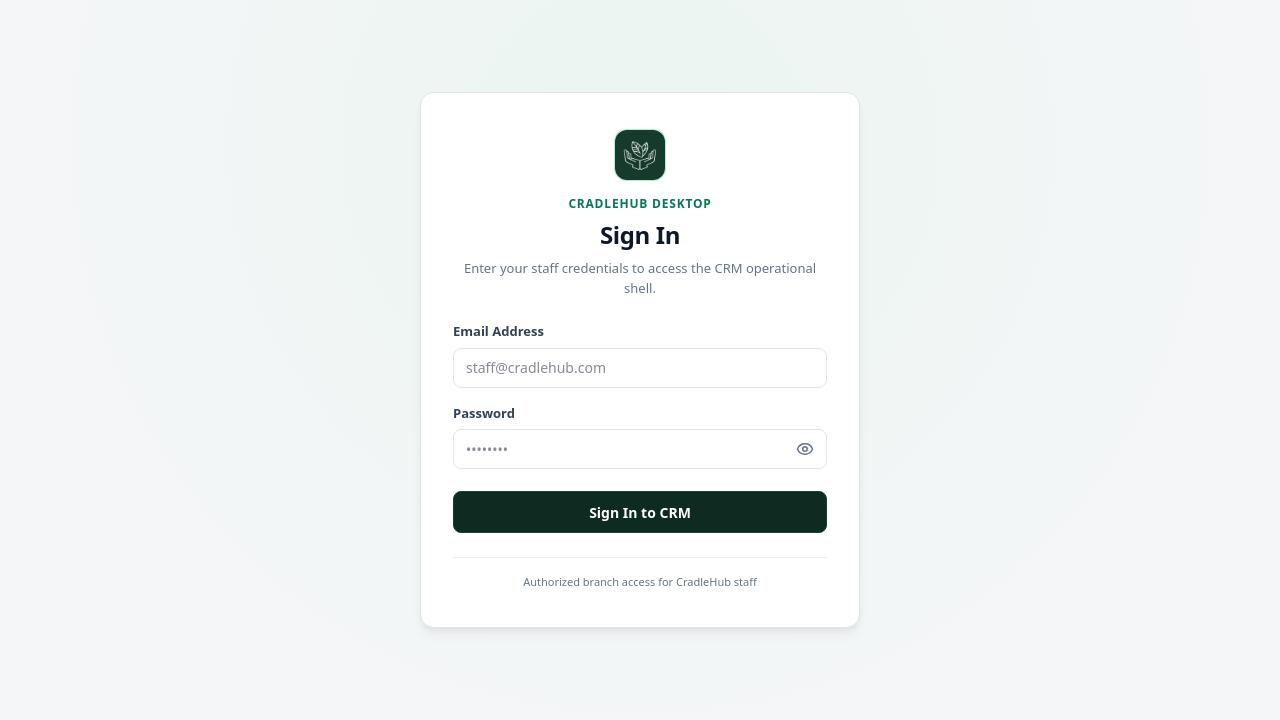
Stage 01 UI Components › App integration flows › transitions from Login to CanonicalShell on successful authentication and context resolution, and signs out via avatar menu
Type "user@example.com" into the field with test id "email-input". click: (640, 368)
box: [453,348,827,388]
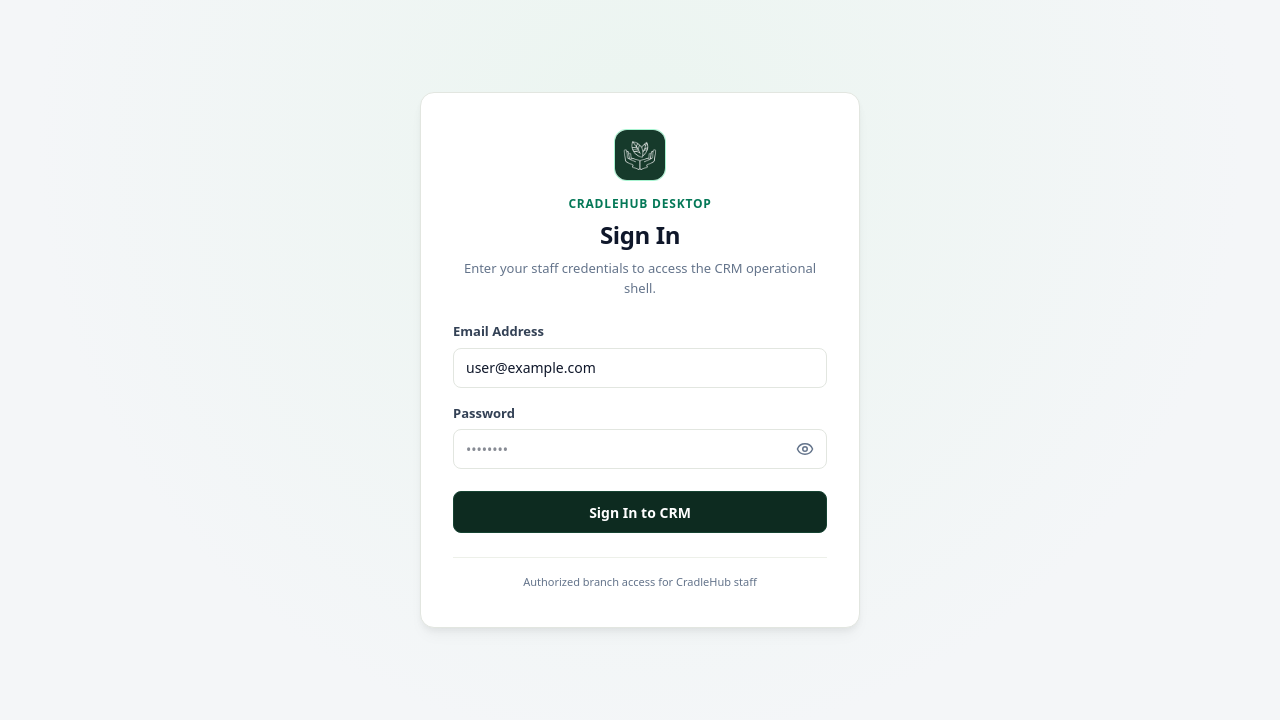
Type "password123" into the password field with test id "password-input". click: (640, 449)
box: [453,429,827,469]
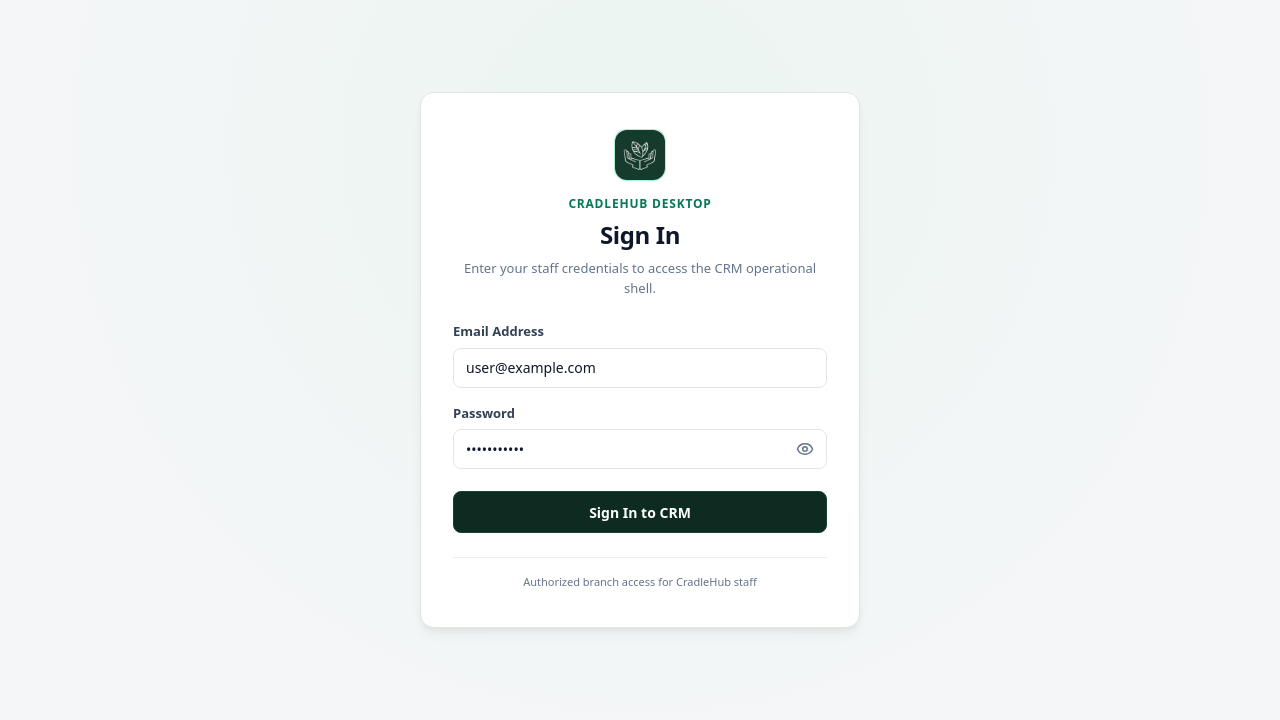
Click the button with test id "submit-button". click: (640, 512)
box: [453,491,827,533]
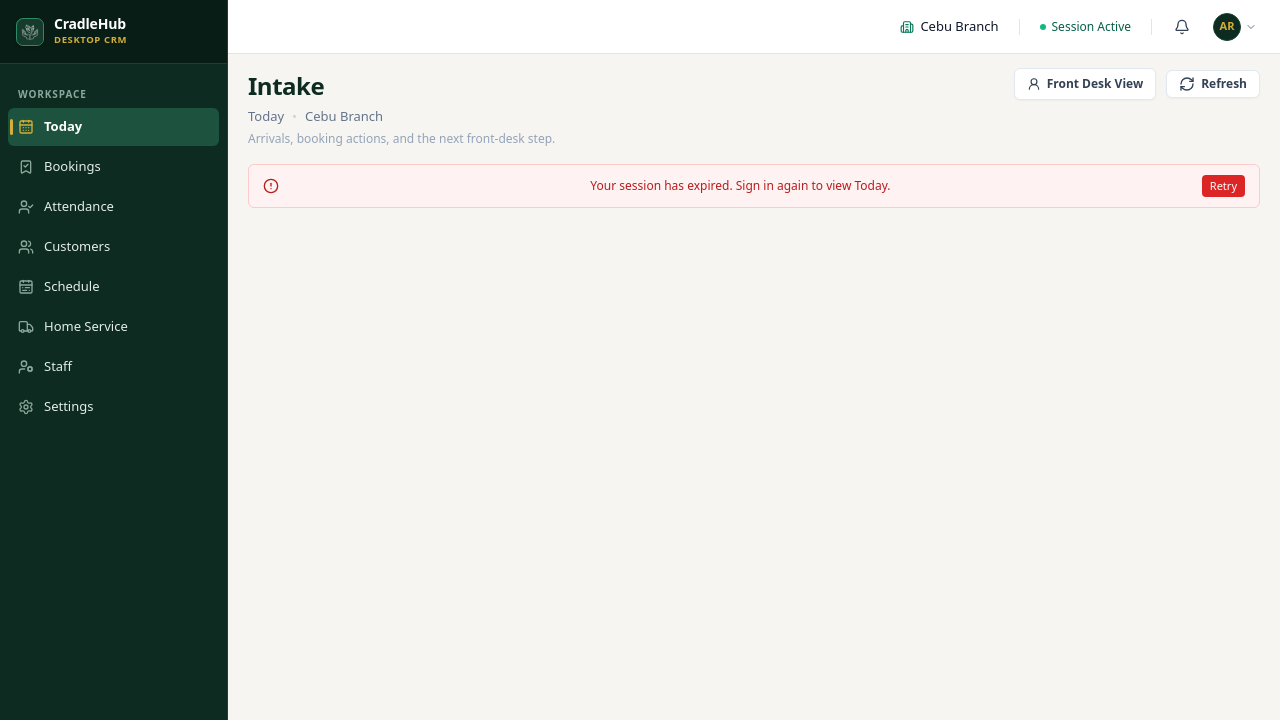
Check: the element with test id "canonical-shell" is shown
Check: the text with test id "top-branch-name" reads "Cebu Branch", box [920,17,998,35]
Note: Open avatar menu to sign out
Click the button with test id "user-menu-trigger". click: (1235, 26)
box: [1210,10,1260,44]
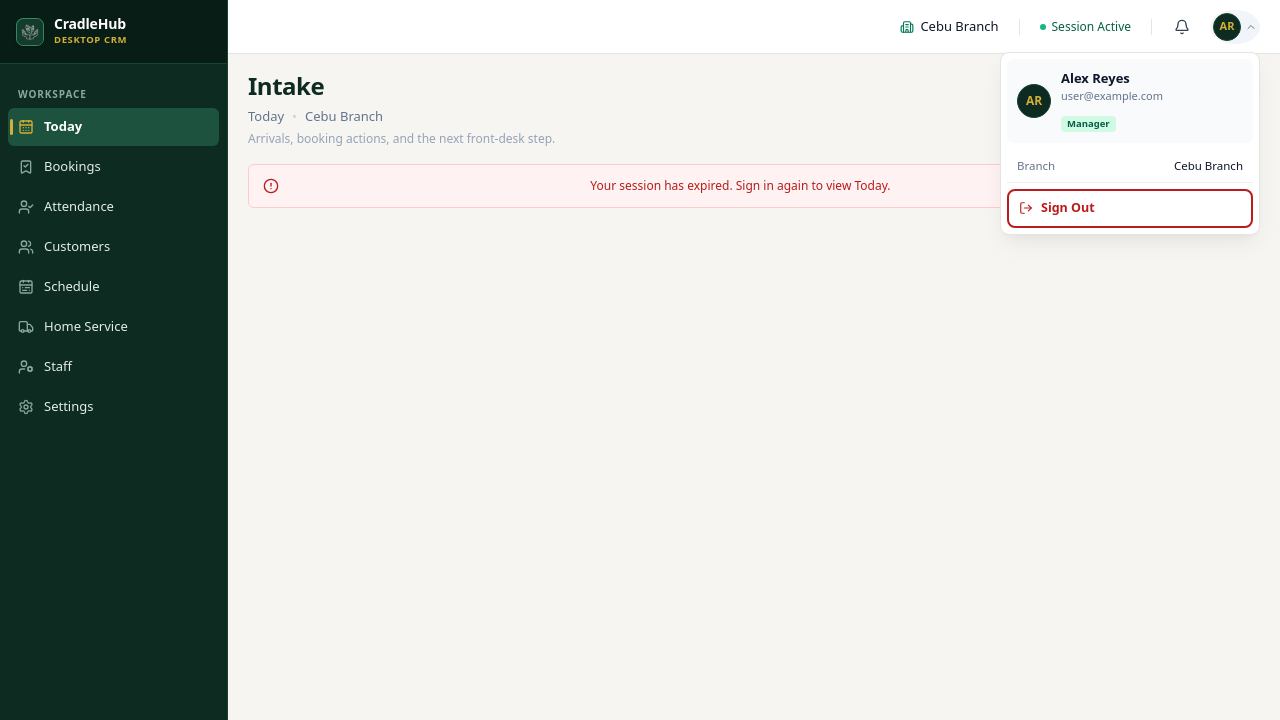
Check: the menu item with test id "dropdown-signout-button" is shown
Click the menu item with test id "dropdown-signout-button". click: (1130, 208)
box: [1009,191,1251,226]
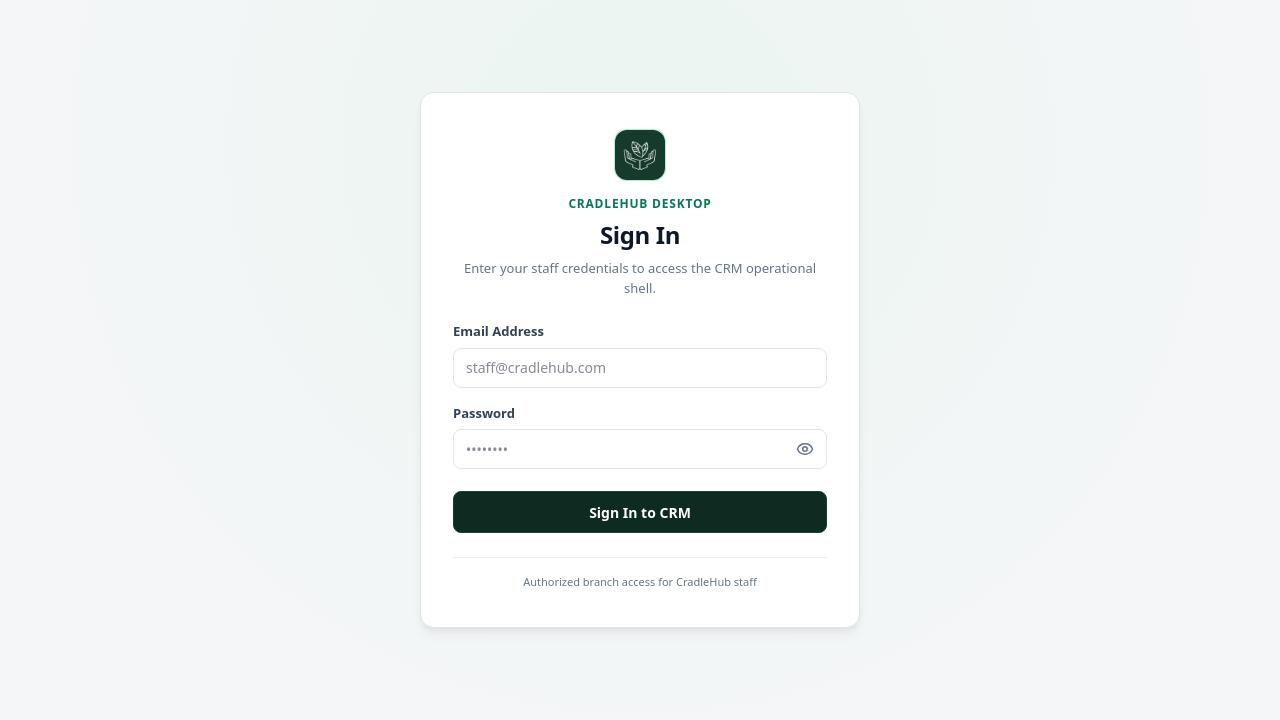
Check: the element with test id "login-view" is shown
